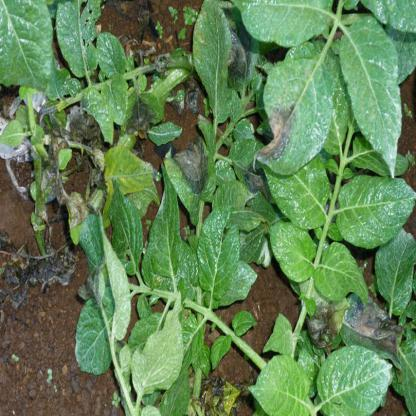potato leaf late blight: (244, 40, 343, 171), (336, 287, 402, 366), (169, 129, 219, 216), (222, 14, 267, 101)
